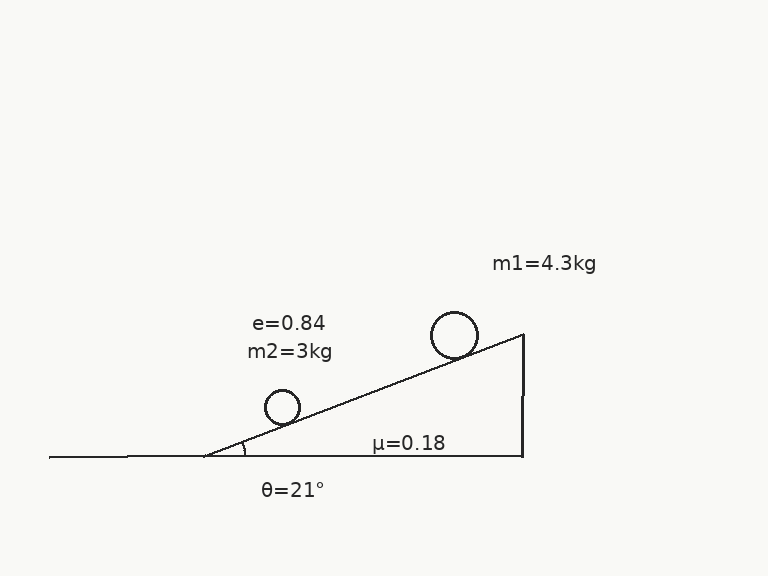ball: (428, 309, 480, 361), (262, 387, 302, 427)
ramp: (203, 332, 524, 458)
